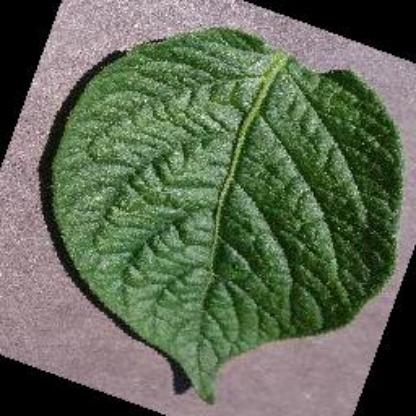Healthy-plant: (47, 23, 407, 378)
